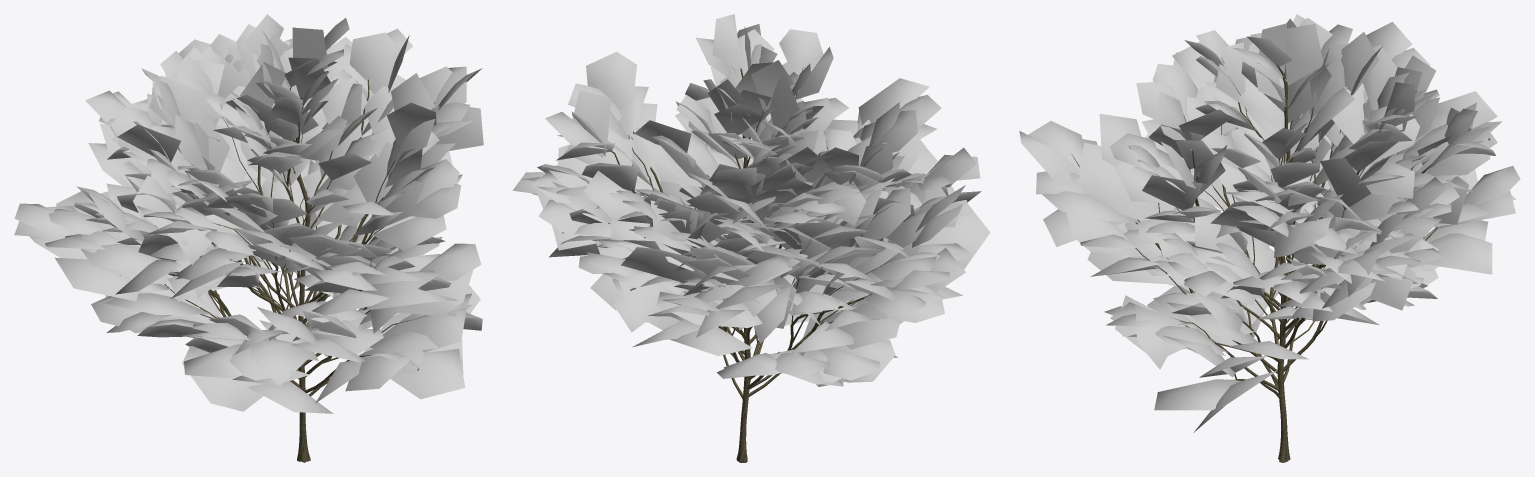
File: Tree_Sm_07_2_L0.fbx
3 renders of one model, left to right at view 1: azimuth 30°, elevation 25°; view 2: azimuth 150°, elevation 25°; view 3: azimuth 270°, elevation 25°, orthographic. The views are drawn at different scales.
Visible parts, largest first — view 1: polySurface21; view 2: polySurface21; view 3: polySurface21.
Part boxes in pixels (x1,y1,x2,y2): polySurface21: [14, 14, 483, 462]; polySurface21: [512, 14, 990, 462]; polySurface21: [1019, 14, 1520, 462].
Bounding box in the file's own units: 597 × 569 × 591.
